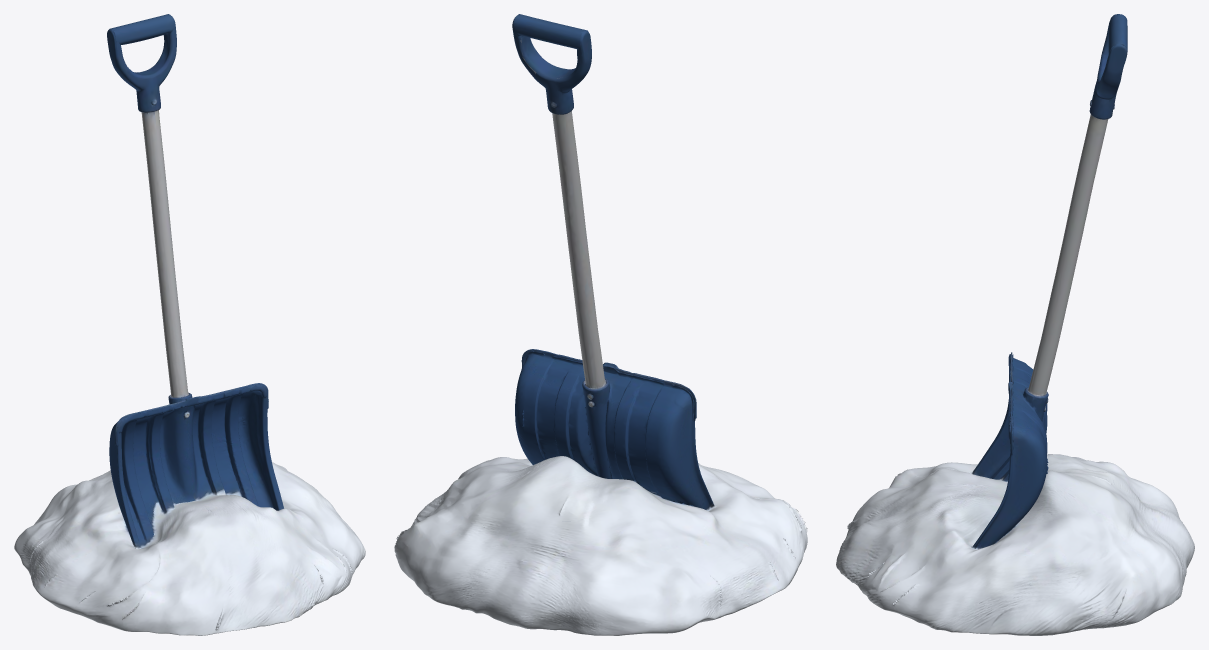
The picture shows the model from 3 angles, left to right: view 1: azimuth 30°, elevation 25°; view 2: azimuth 150°, elevation 25°; view 3: azimuth 270°, elevation 25°; orthographic projection. The views are drawn at different scales.
Visible parts, largest first — view 1: tripo_node_d4e38597-10df-4195-af63-d38c29dbd390; view 2: tripo_node_d4e38597-10df-4195-af63-d38c29dbd390; view 3: tripo_node_d4e38597-10df-4195-af63-d38c29dbd390.
Boxes of the visible parts, x1,y1,x2,y2 form: tripo_node_d4e38597-10df-4195-af63-d38c29dbd390: (14,14,365,635); tripo_node_d4e38597-10df-4195-af63-d38c29dbd390: (394,14,807,635); tripo_node_d4e38597-10df-4195-af63-d38c29dbd390: (836,14,1194,635).
Size of the model in its own units: 0.6137 by 0.9785 by 0.5985.
Materials: 1 (1 with a texture image).
